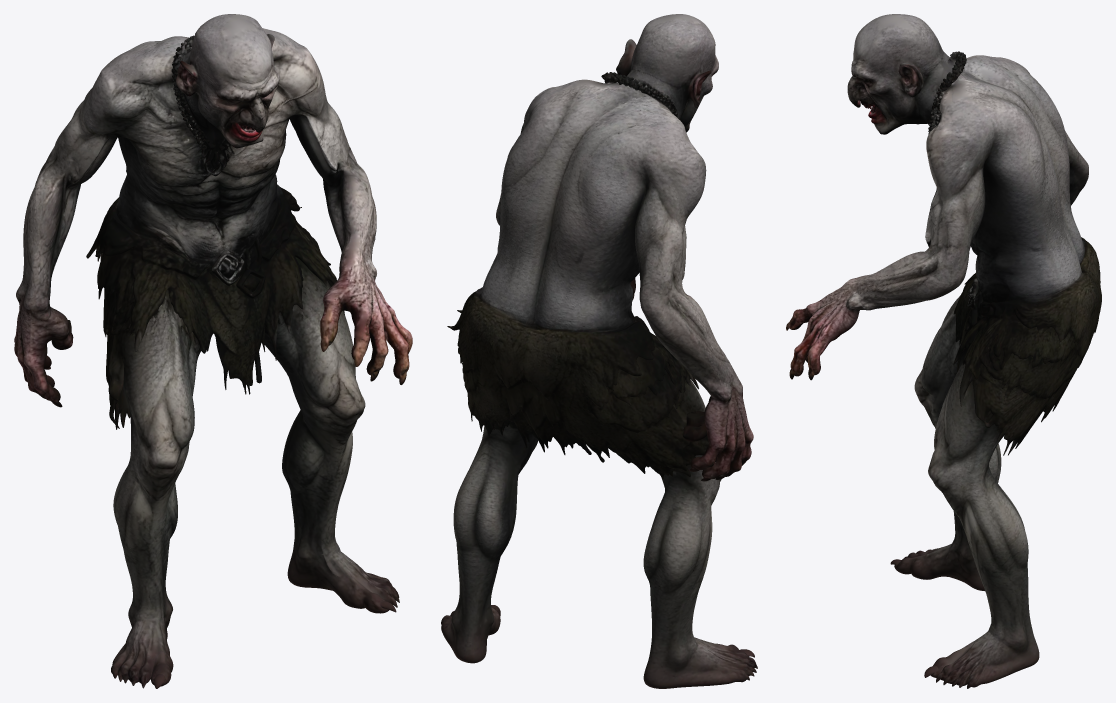
The model's file is ghoul.glb.
The picture shows the model from 3 angles, left to right: view 1: azimuth 30°, elevation 25°; view 2: azimuth 150°, elevation 25°; view 3: azimuth 270°, elevation 25°; orthographic projection. The views are drawn at different scales.
Parts seen in each view (by area): view 1: material; view 2: material; view 3: material.
Part boxes in pixels (x1,y1,x2,y2): material: [14, 14, 412, 688]; material: [441, 14, 757, 688]; material: [786, 14, 1101, 688].
Size of the model in its own units: 0.5826 by 1.05 by 0.5144.
1 material, 1 textured.
